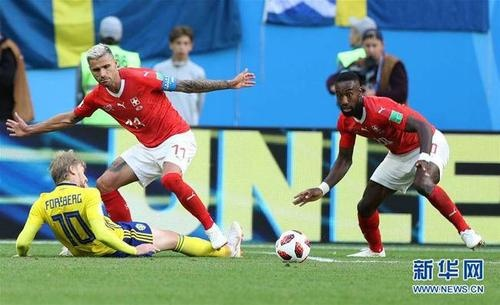falling: (6, 147, 247, 259)
